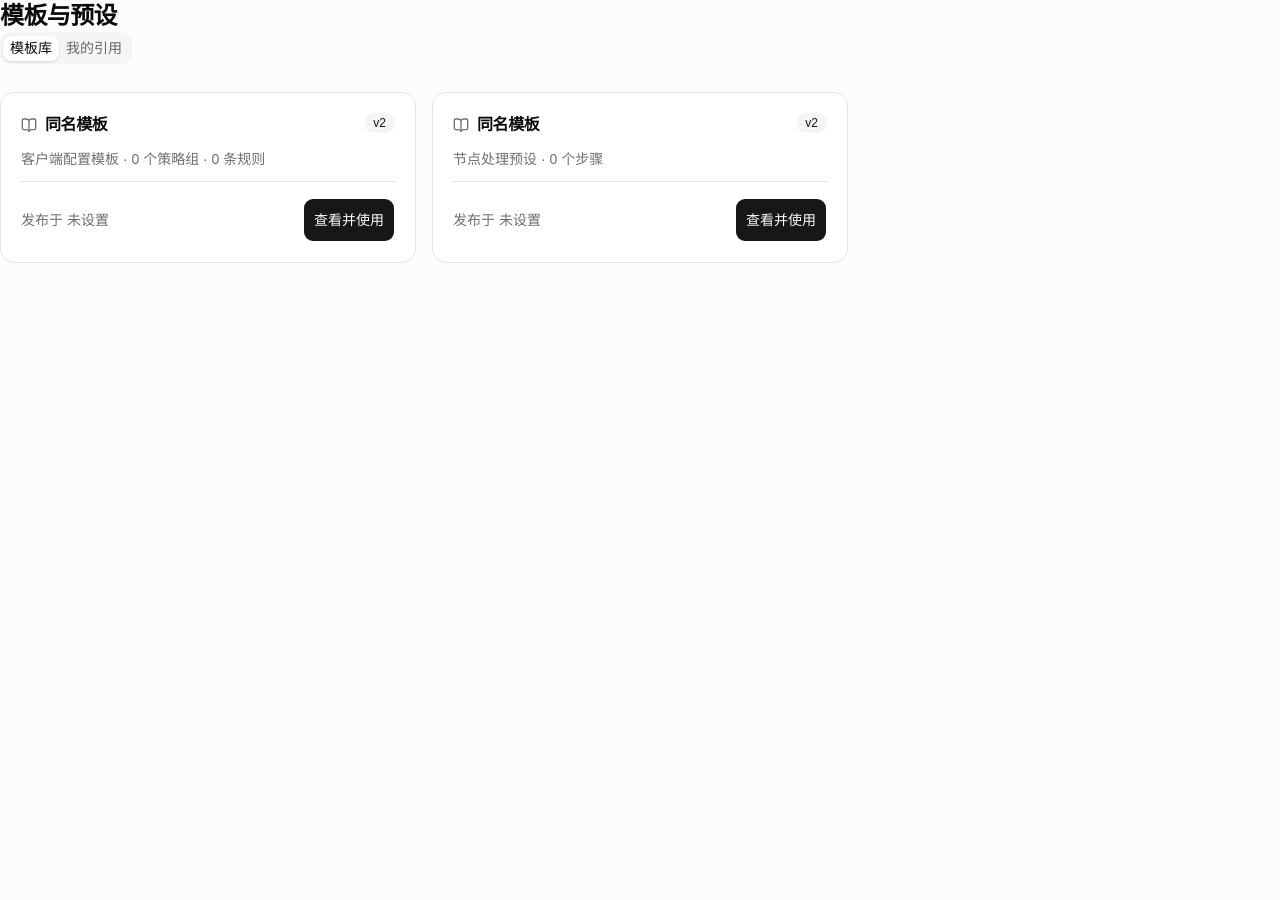
keeps profiles/follow row identity through dismissal, review and explicit apply
Click the tab "我的引用": {"x": 94, "y": 48} [59, 36, 129, 60]
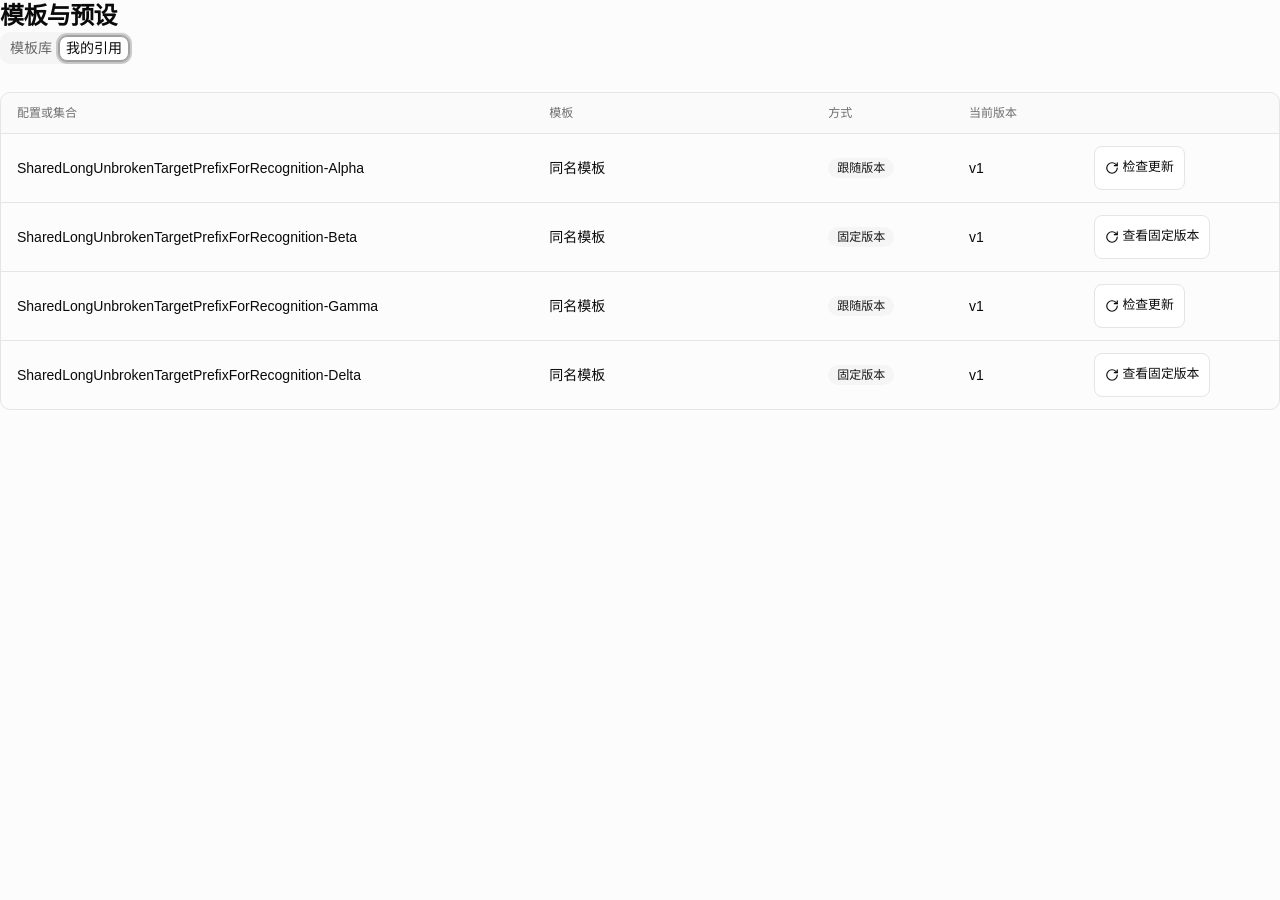
Click the 1st button "查看固定版本": {"x": 1152, "y": 236} [1094, 214, 1210, 258]
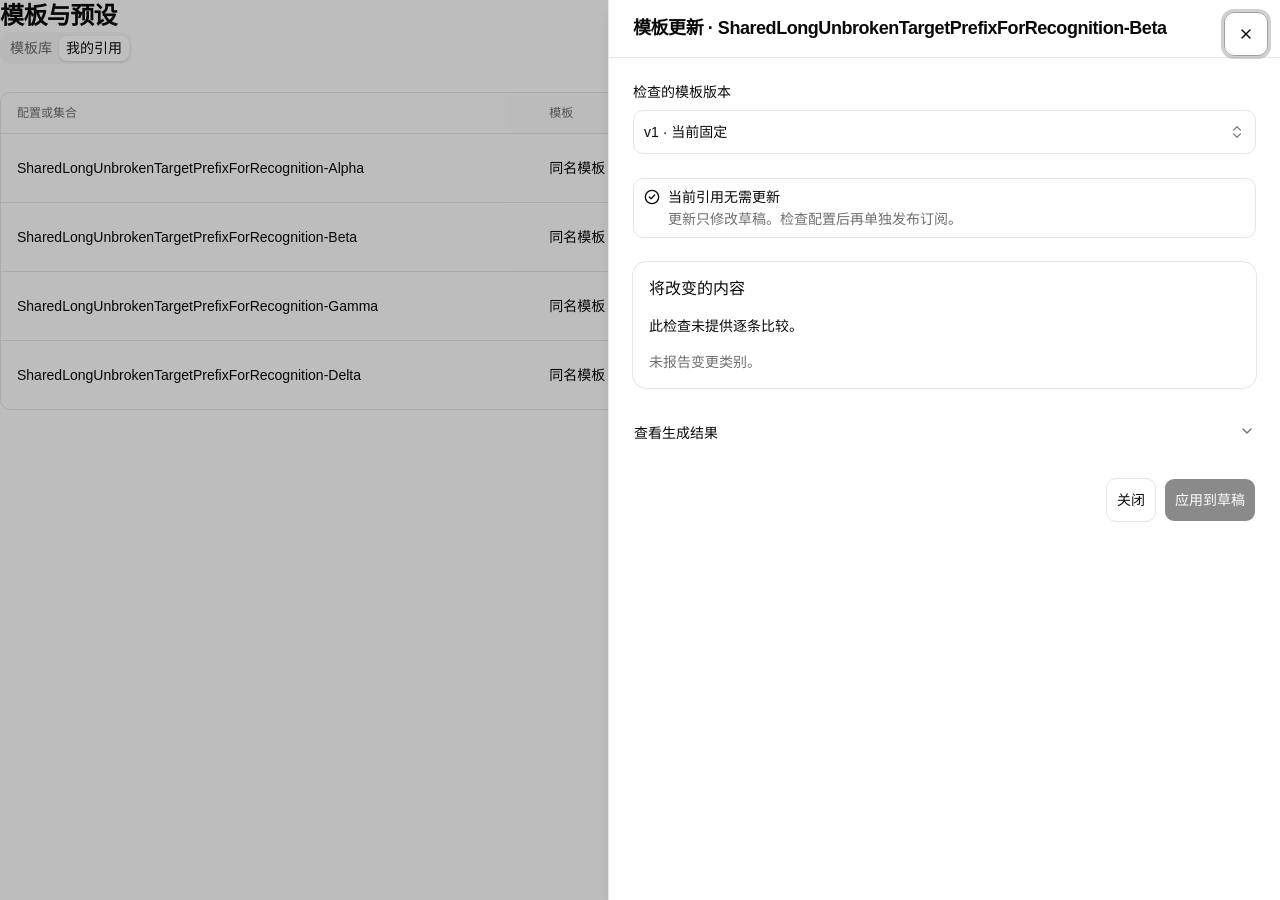
Expected: the text "当前引用无需更新" is shown, [668, 189, 780, 205]
Click the button "关闭": {"x": 1131, "y": 500} [1106, 478, 1156, 522]
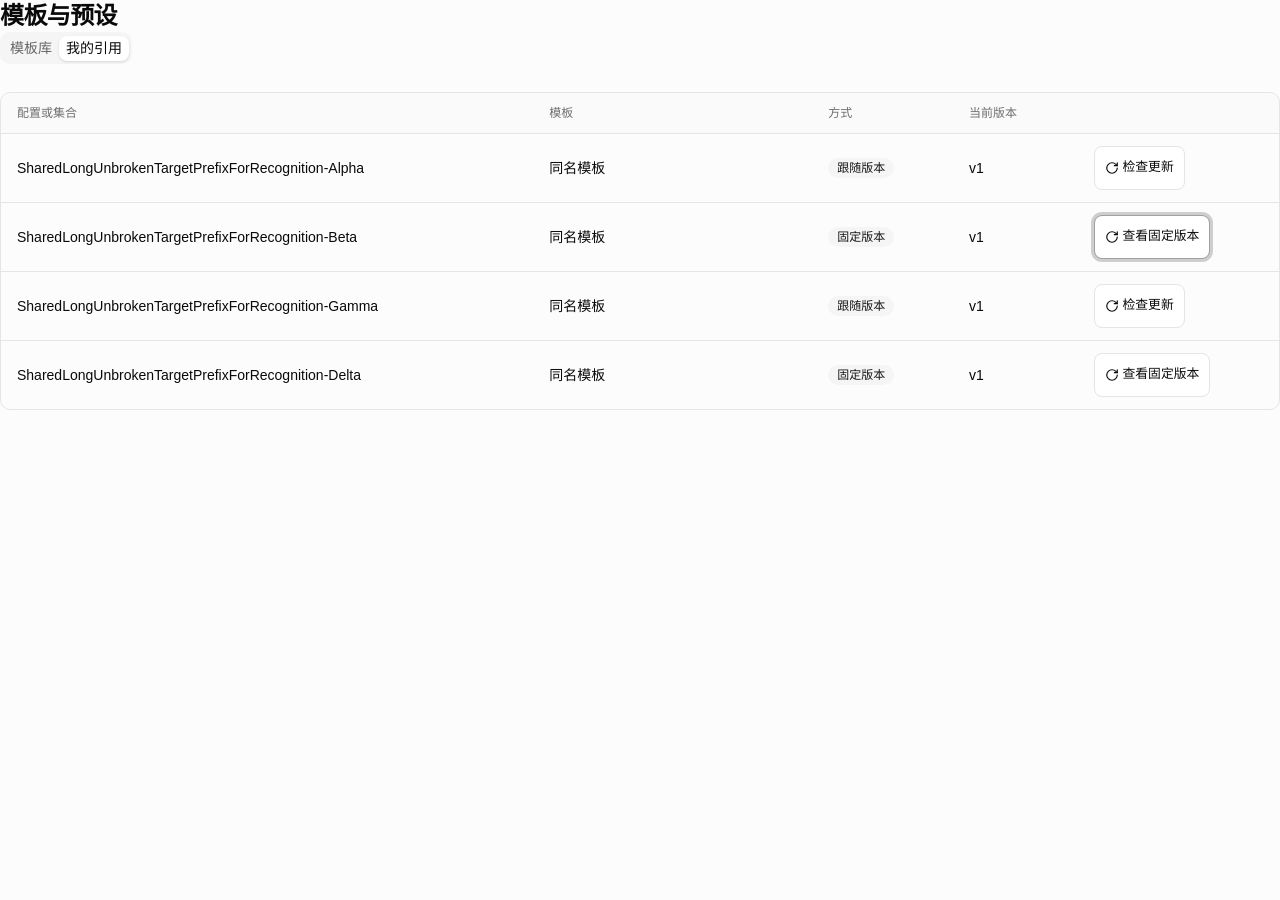
Expected: the dialog is gone
Click the 1st button "检查更新": {"x": 1139, "y": 168} [1094, 146, 1185, 190]
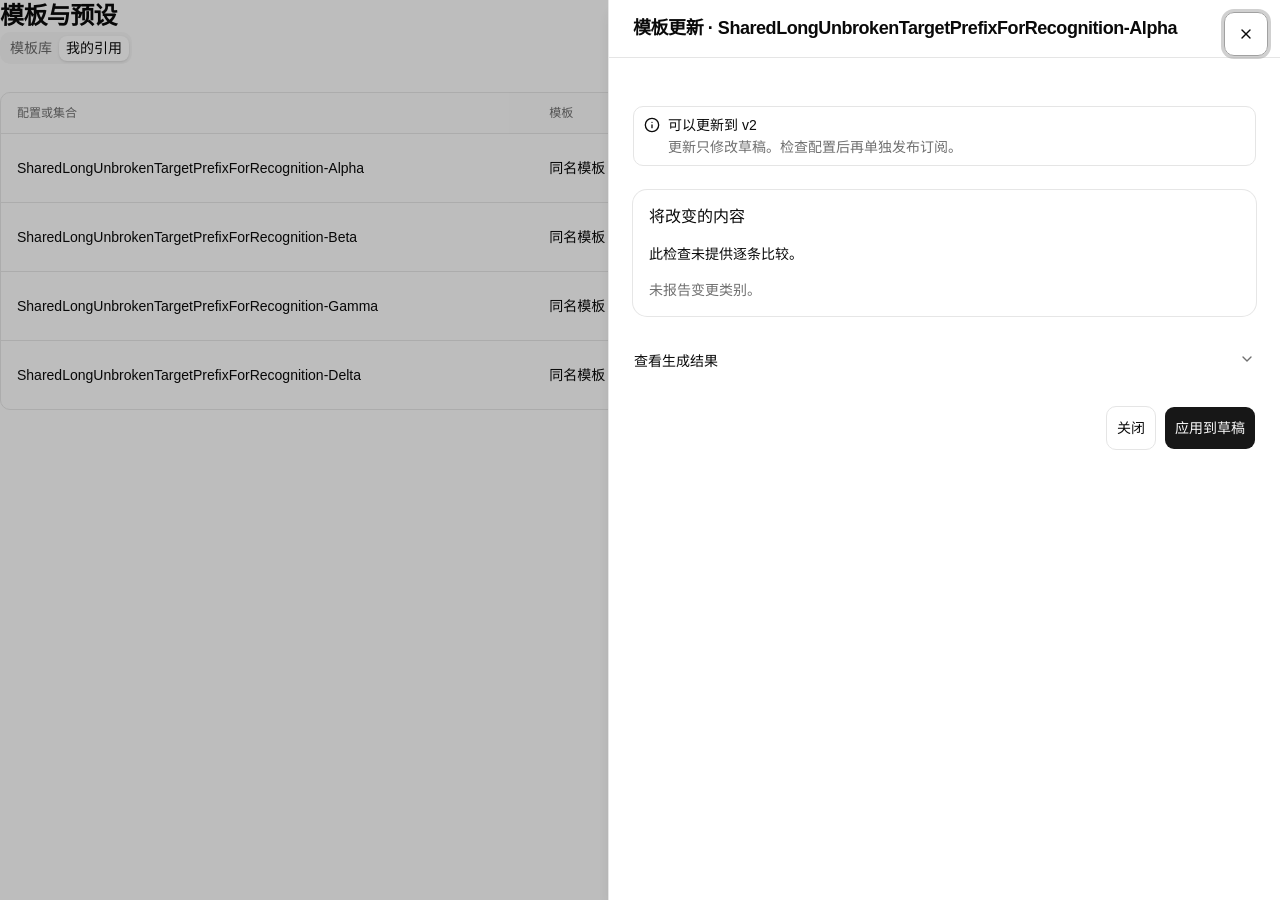
Expected: the text "可以更新到 v2" is shown, [668, 117, 757, 133]
Click the button "应用到草稿": {"x": 1210, "y": 428} [1164, 406, 1256, 450]
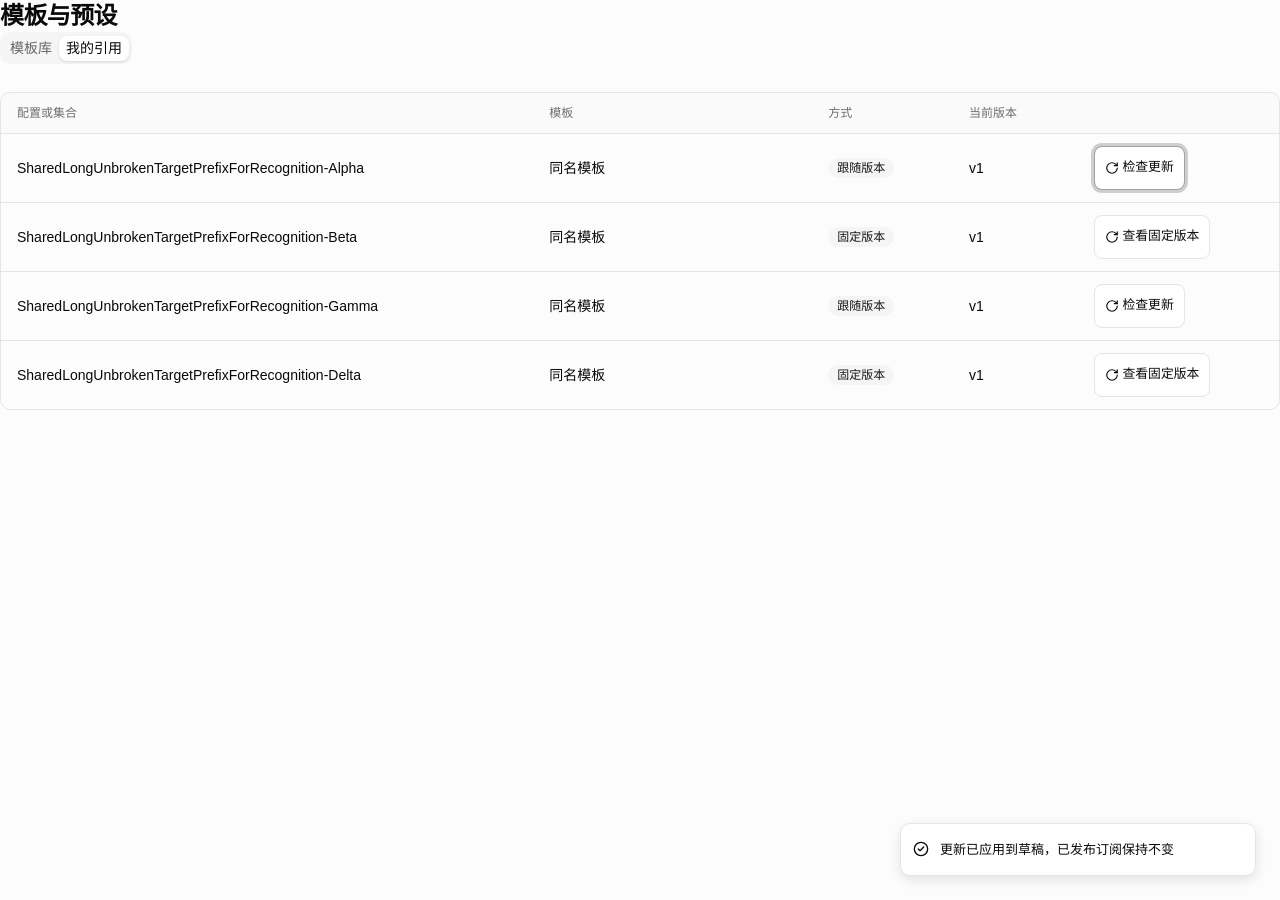
Expected: the dialog is gone
